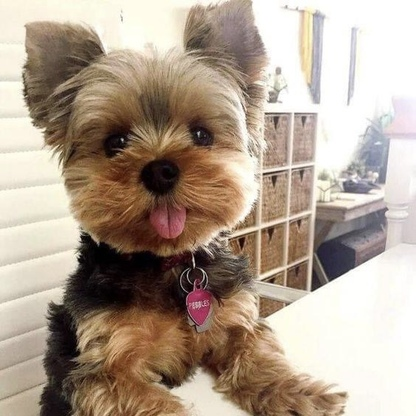yorkshire: (21, 1, 345, 415)
